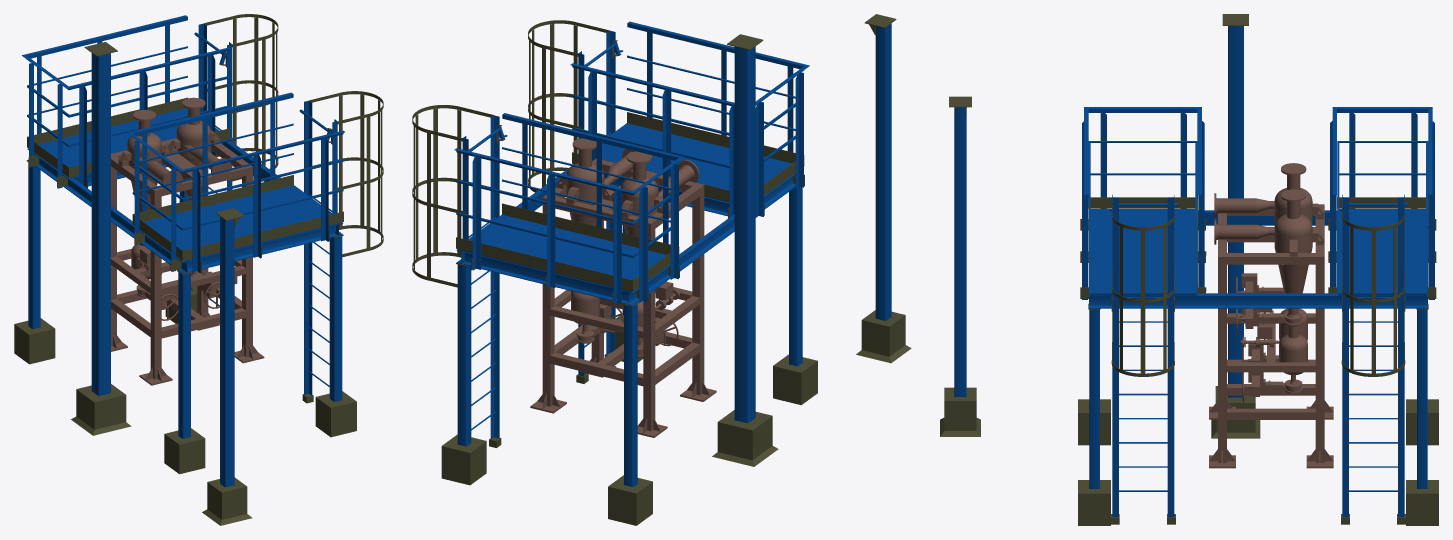
File: NewUserModel1.fbx
The picture shows the model from 3 angles, left to right: view 1: azimuth 30°, elevation 25°; view 2: azimuth 150°, elevation 25°; view 3: azimuth 270°, elevation 25°; orthographic projection. The views are drawn at different scales.
Visible parts, largest first — view 1: Группа фасетов (×4), PANEL 42 of SBFRAMEWORK 2 of FRMWORK /BKT4002-KM1, GENSEC 26 of SBFRAMEWORK 2 of FRMWORK /BKT4002-KM1, GENSEC 2 of SBFRAMEWORK 2 of FRMWORK /BKT4002-KM1, PANEL 43 of SBFRAMEWORK 2 of FRMWORK /BKT4002-KM1, PANEL 1 of SBFRAMEWORK 4 of FRMWORK /BKT4002-KM1, BOX 22 of EQUIPMENT /PA161-19, GENSEC 25 of SBFRAMEWORK /Copy-of-ЕП600КЖтест(KM1), PANEL 25 of SBFRAMEWORK 2 of FRMWORK /BKT4002-KM1, GENSEC 27 of SBFRAMEWORK 2 of FRMWORK /BKT4002-KM1, PANEL 24 of SBFRAMEWORK 2 of FRMWORK /BKT4002-KM1, PANEL 37 of SBFRAMEWORK /Copy-of-ЕП600КЖтест(KM1) (+40 smaller); view 2: Группа фасетов (×4), GENSEC 28 of SBFRAMEWORK /Copy-of-ЕП600КЖтест(KM1), GENSEC 4 of SBFRAMEWORK /Copy-of-ЕП600КЖтест(KM1), PANEL 40 of SBFRAMEWORK /Copy-of-ЕП600КЖтест(KM1), BOX 22 of EQUIPMENT /PA161-19, PANEL 41 of SBFRAMEWORK /Copy-of-ЕП600КЖтест(KM1), PANEL 1 of SBFRAMEWORK 4 of FRMWORK /BKT4002-KM1, GENSEC 25 of SBFRAMEWORK /Copy-of-ЕП600КЖтест(KM1), GENSEC 29 of SBFRAMEWORK /Copy-of-ЕП600КЖтест(KM1), BOX 29 of EQUIPMENT /PA161-19, PANEL 24 of SBFRAMEWORK /Copy-of-ЕП600КЖтест(KM1), PANEL 42 of SBFRAMEWORK 2 of FRMWORK /BKT4002-KM1 (+35 smaller); view 3: Группа фасетов (×2), GENSEC 26 of SBFRAMEWORK /Copy-of-ЕП600КЖтест(KM1), PANEL 42 of SBFRAMEWORK 2 of FRMWORK /BKT4002-KM1, PANEL 43 of SBFRAMEWORK 2 of FRMWORK /BKT4002-KM1, PANEL 40 of SBFRAMEWORK /Copy-of-ЕП600КЖтест(KM1), PANEL 41 of SBFRAMEWORK /Copy-of-ЕП600КЖтест(KM1), GENSEC 2 of SBFRAMEWORK 2 of FRMWORK /BKT4002-KM1, GENSEC 4 of SBFRAMEWORK /Copy-of-ЕП600КЖтест(KM1), GENSEC 1 of SBFRAMEWORK 2 of FRMWORK /BKT4002-KM1, GENSEC 3 of SBFRAMEWORK /Copy-of-ЕП600КЖтест(KM1), GENSEC 28 of SBFRAMEWORK /Copy-of-ЕП600КЖтест(KM1), GENSEC 26 of SBFRAMEWORK 2 of FRMWORK /BKT4002-KM1 (+33 smaller).
Part boxes in pixels (x1,y1,x2,y2): Группа фасетов (×4): (28,53,234,487); PANEL 42 of SBFRAMEWORK 2 of FRMWORK /BKT4002-KM1: (224,185,342,239); GENSEC 26 of SBFRAMEWORK 2 of FRMWORK /BKT4002-KM1: (329,236,342,401); GENSEC 2 of SBFRAMEWORK 2 of FRMWORK /BKT4002-KM1: (304,100,312,395); PANEL 43 of SBFRAMEWORK 2 of FRMWORK /BKT4002-KM1: (153,202,272,257); PANEL 1 of SBFRAMEWORK 4 of FRMWORK /BKT4002-KM1: (76,384,126,429); BOX 22 of EQUIPMENT /PA161-19: (150,187,161,379); GENSEC 25 of SBFRAMEWORK /Copy-of-ЕП600КЖтест(KM1): (27,148,187,273); PANEL 25 of SBFRAMEWORK 2 of FRMWORK /BKT4002-KM1: (133,175,293,221); GENSEC 27 of SBFRAMEWORK 2 of FRMWORK /BKT4002-KM1: (187,224,337,272); PANEL 24 of SBFRAMEWORK 2 of FRMWORK /BKT4002-KM1: (182,211,343,260); PANEL 37 of SBFRAMEWORK /Copy-of-ЕП600КЖтест(KM1): (14,318,55,360); Группа фасетов (×4): (624,23,891,487); GENSEC 28 of SBFRAMEWORK /Copy-of-ЕП600КЖтест(KM1): (457,264,471,446); GENSEC 4 of SBFRAMEWORK /Copy-of-ЕП600КЖтест(KM1): (490,115,499,439); PANEL 40 of SBFRAMEWORK /Copy-of-ЕП600КЖтест(KM1): (457,214,578,268); BOX 22 of EQUIPMENT /PA161-19: (692,183,704,395); PANEL 41 of SBFRAMEWORK /Copy-of-ЕП600КЖтест(KM1): (534,233,655,287); PANEL 1 of SBFRAMEWORK 4 of FRMWORK /BKT4002-KM1: (717,410,772,460); GENSEC 25 of SBFRAMEWORK /Copy-of-ЕП600КЖтест(KM1): (628,173,795,305); GENSEC 29 of SBFRAMEWORK /Copy-of-ЕП600КЖтест(KM1): (463,251,627,304); BOX 29 of EQUIPMENT /PA161-19: (643,219,655,431); PANEL 24 of SBFRAMEWORK /Copy-of-ЕП600КЖтест(KM1): (456,237,632,291); PANEL 42 of SBFRAMEWORK 2 of FRMWORK /BKT4002-KM1: (573,123,703,172); Группа фасетов (×2): (954,26,1243,397); GENSEC 26 of SBFRAMEWORK /Copy-of-ЕП600КЖтест(KM1): (1089,293,1427,308); PANEL 42 of SBFRAMEWORK 2 of FRMWORK /BKT4002-KM1: (1089,256,1196,295); PANEL 43 of SBFRAMEWORK 2 of FRMWORK /BKT4002-KM1: (1090,218,1195,255); PANEL 40 of SBFRAMEWORK /Copy-of-ЕП600КЖтест(KM1): (1338,256,1426,295); PANEL 41 of SBFRAMEWORK /Copy-of-ЕП600КЖтест(KM1): (1339,218,1425,255); GENSEC 2 of SBFRAMEWORK 2 of FRMWORK /BKT4002-KM1: (1167,195,1174,517); GENSEC 4 of SBFRAMEWORK /Copy-of-ЕП600КЖтест(KM1): (1342,194,1348,517); GENSEC 1 of SBFRAMEWORK 2 of FRMWORK /BKT4002-KM1: (1112,194,1118,517); GENSEC 3 of SBFRAMEWORK /Copy-of-ЕП600КЖтест(KM1): (1398,194,1404,517); GENSEC 28 of SBFRAMEWORK /Copy-of-ЕП600КЖтест(KM1): (1417,309,1427,488); GENSEC 26 of SBFRAMEWORK 2 of FRMWORK /BKT4002-KM1: (1089,309,1099,488).
Size of the model in its own units: 3.63 by 5.62 by 5.08.
